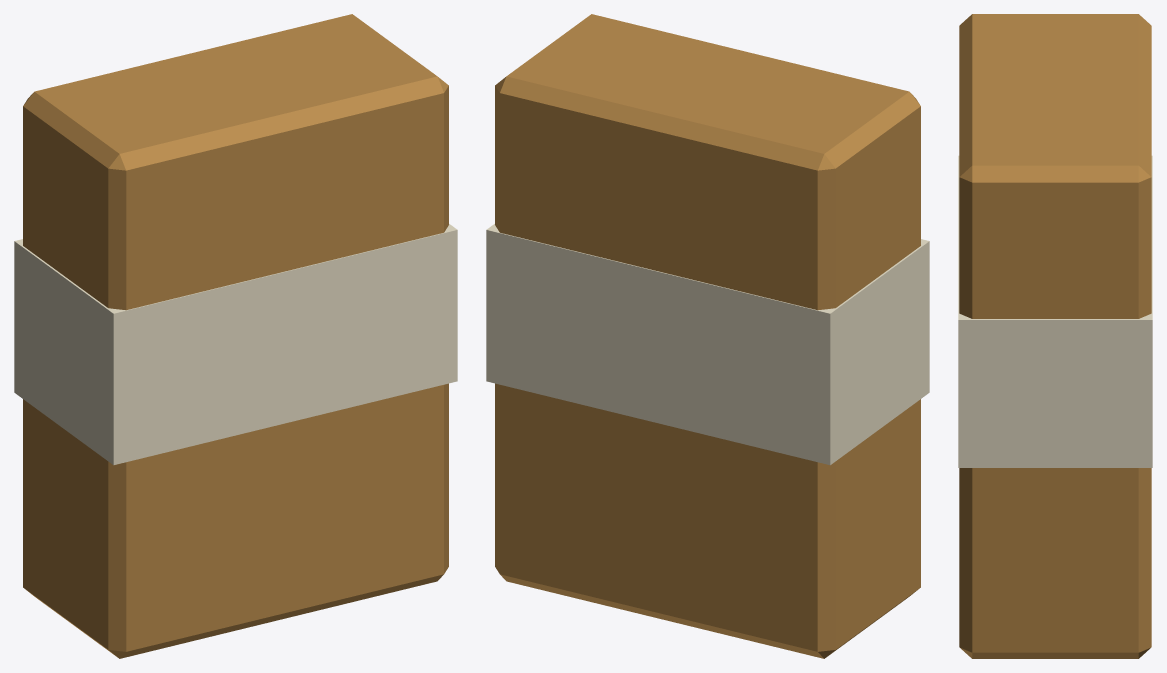
Rendered from buckwheat.glb.
3 views of the same model, side by side, from view 1: azimuth 30°, elevation 25°; view 2: azimuth 150°, elevation 25°; view 3: azimuth 270°, elevation 25° (orthographic). The views are drawn at different scales.
Parts seen in each view (by area): view 1: Item; view 2: Item; view 3: Item.
Part boxes in pixels (x1=…): Item: x1=14, y1=14, x2=457, y2=658; Item: x1=486, y1=14, x2=929, y2=658; Item: x1=958, y1=14, x2=1152, y2=658.
Bounding box in the file's own units: 0.1212 × 0.17 × 0.0606.
